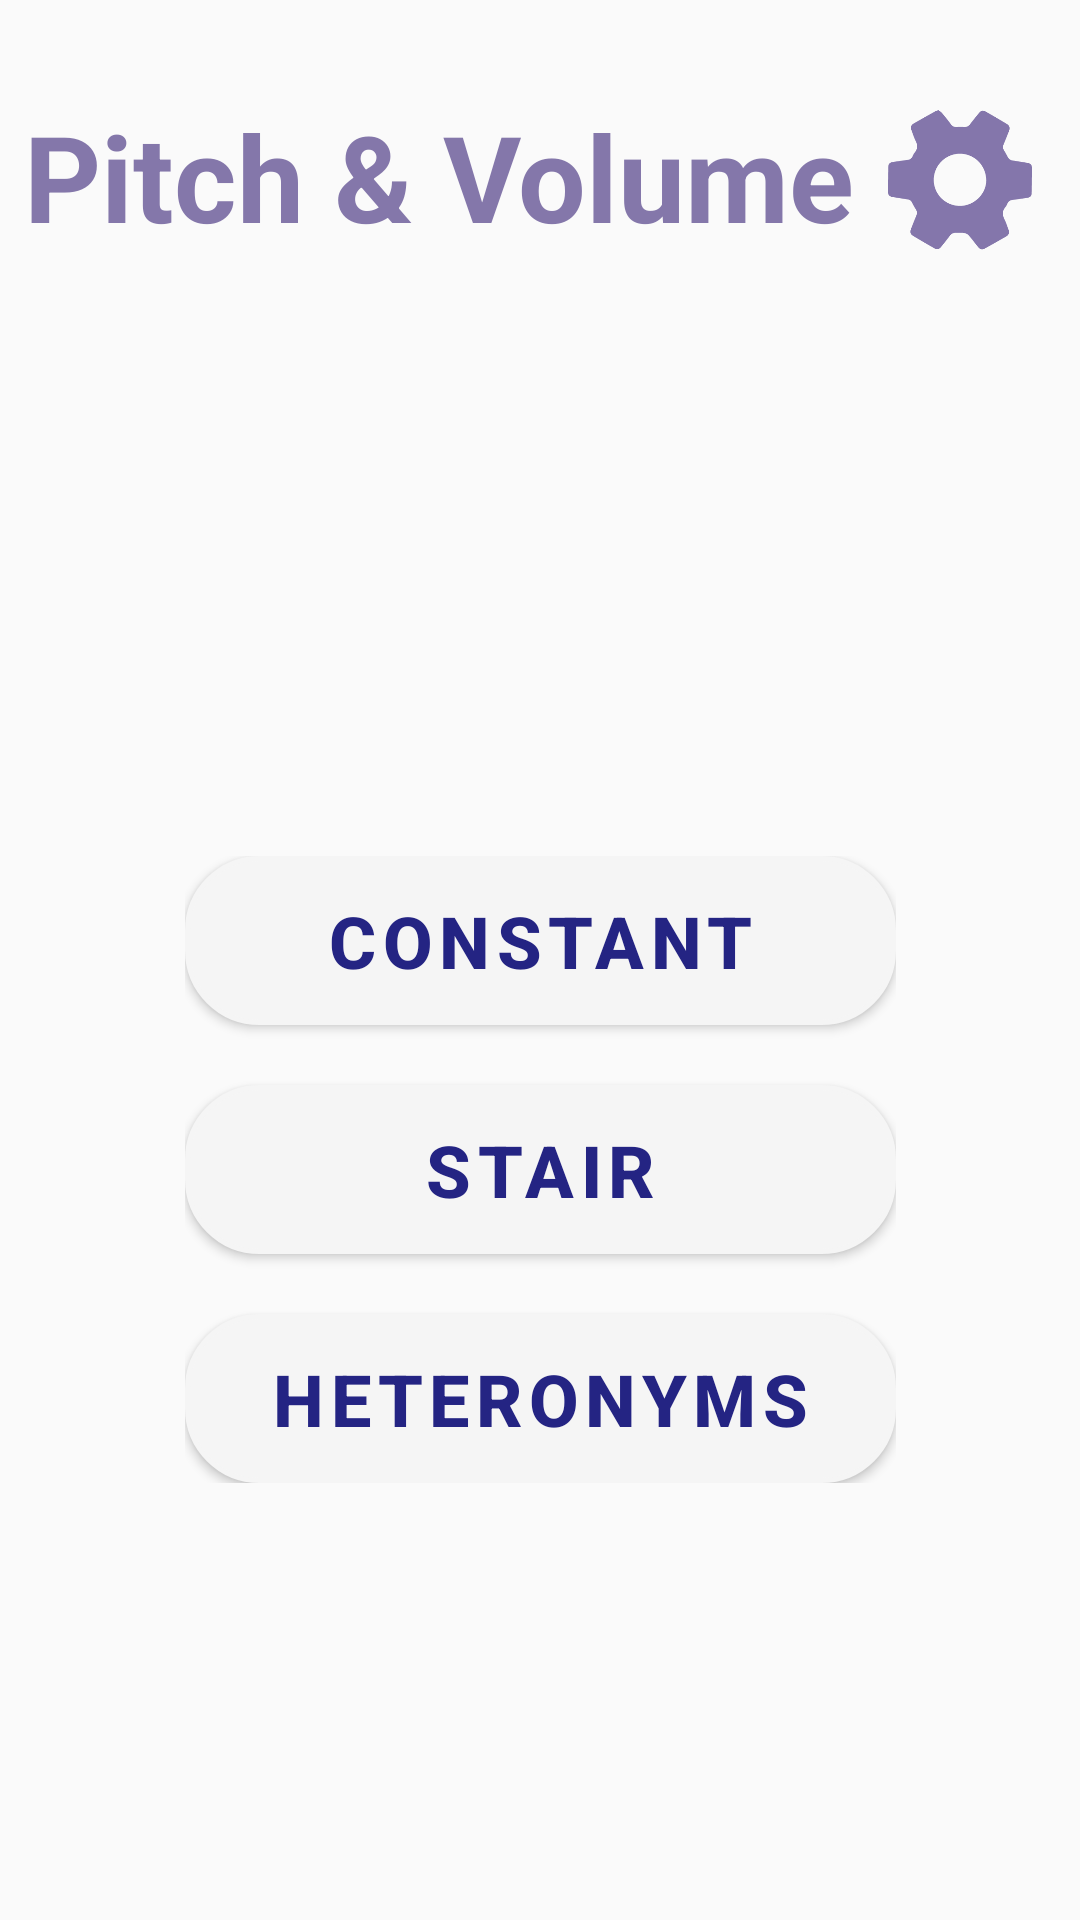

Icons on this 1080px x 1920px Android screen, each with its box as [x1, y1, x2, y2]:
The Settings Button: [888, 110, 1032, 250]
